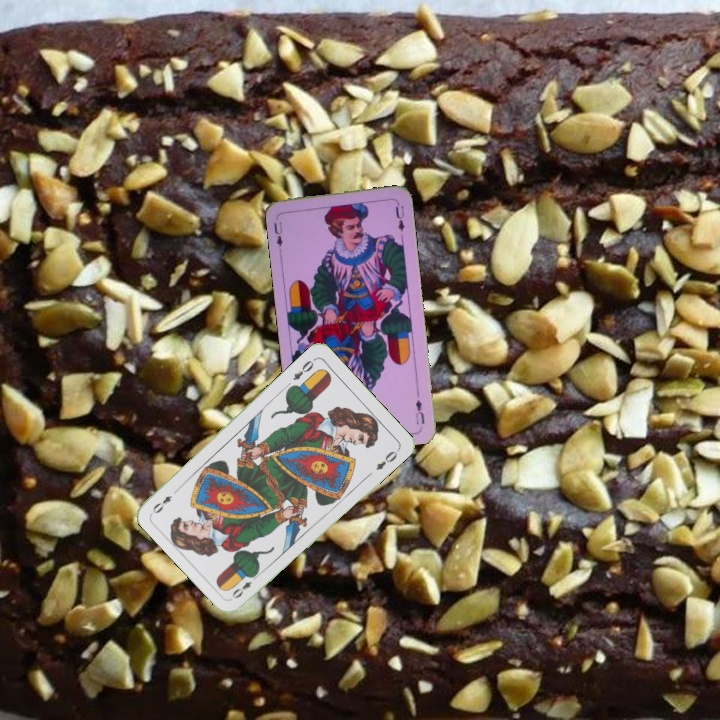EO: (228, 569, 261, 601), (289, 354, 318, 383)
EU: (270, 212, 285, 253), (411, 396, 427, 427)
